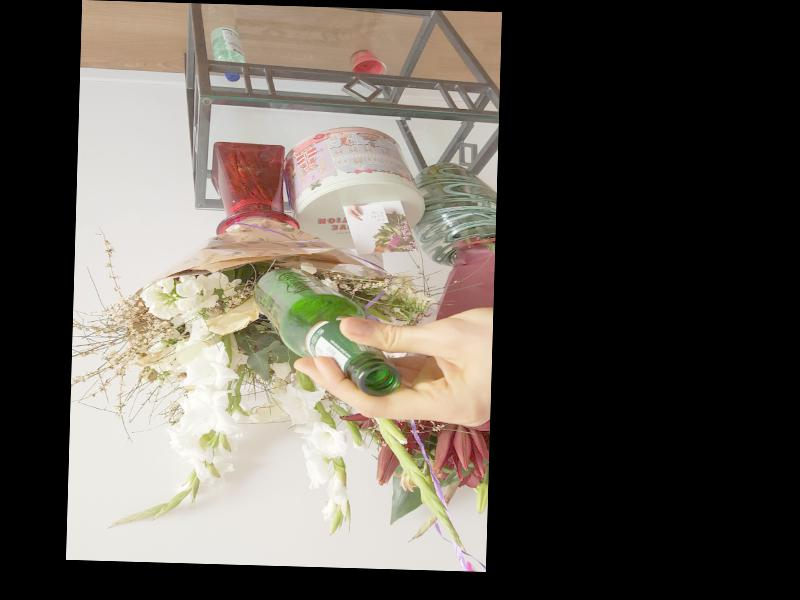Beer: (252, 267, 401, 397)
